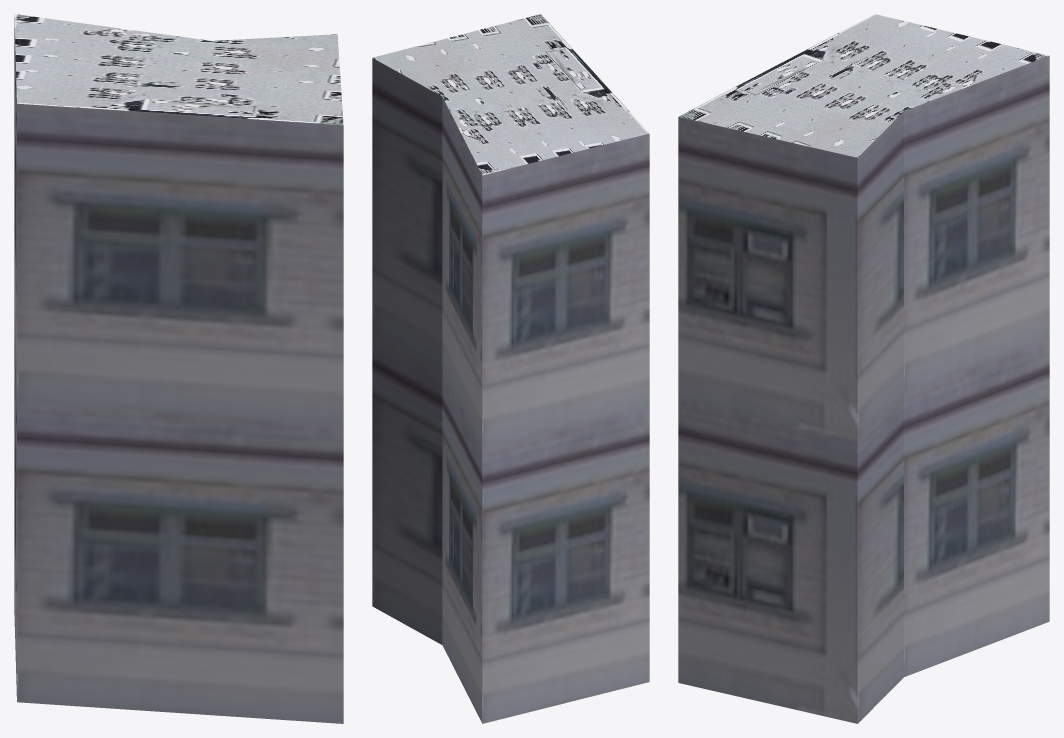
File: ResTex__3709.fbx
3 views of the same model, side by side, from view 1: azimuth 30°, elevation 25°; view 2: azimuth 150°, elevation 25°; view 3: azimuth 270°, elevation 25° (orthographic). The views are drawn at different scales.
Parts seen in each view (by area): view 1: CityEngineMaterial_1_m, CityEngineMaterial_4_m; view 2: CityEngineMaterial_1_m, CityEngineMaterial_4_m; view 3: CityEngineMaterial_1_m, CityEngineMaterial_4_m.
Boxes of the visible parts, x1=… form: CityEngineMaterial_1_m: x1=14, y1=17, x2=343, y2=723; CityEngineMaterial_4_m: x1=14, y1=14, x2=343, y2=125; CityEngineMaterial_1_m: x1=372, y1=58, x2=649, y2=723; CityEngineMaterial_4_m: x1=372, y1=14, x2=649, y2=175; CityEngineMaterial_1_m: x1=678, y1=55, x2=1049, y2=723; CityEngineMaterial_4_m: x1=678, y1=14, x2=1049, y2=157.
Size of the model in its own units: 3.27 by 6 by 3.57.
2 materials, 2 textured.
